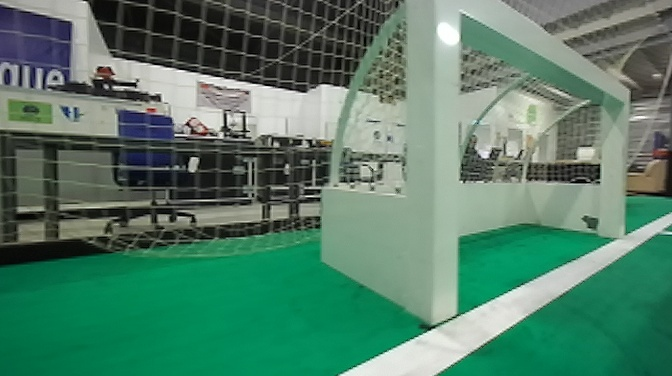goalpost: (407, 2, 457, 329), (598, 80, 632, 246)
